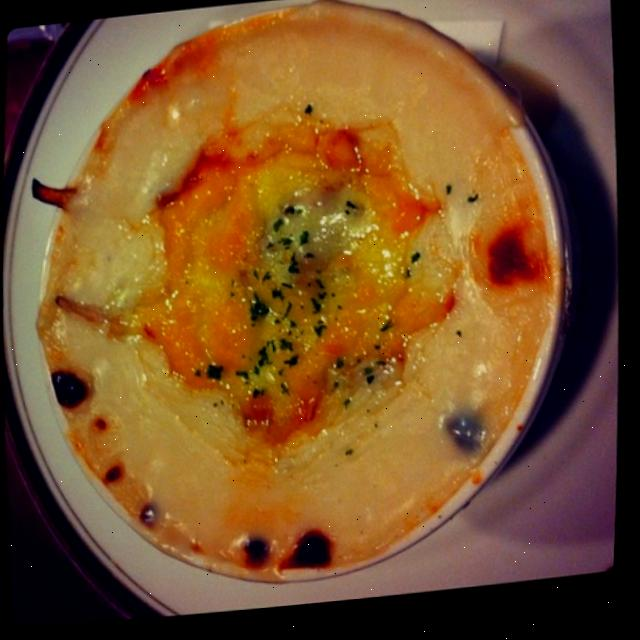米饭主食: (13, 0, 587, 603)
